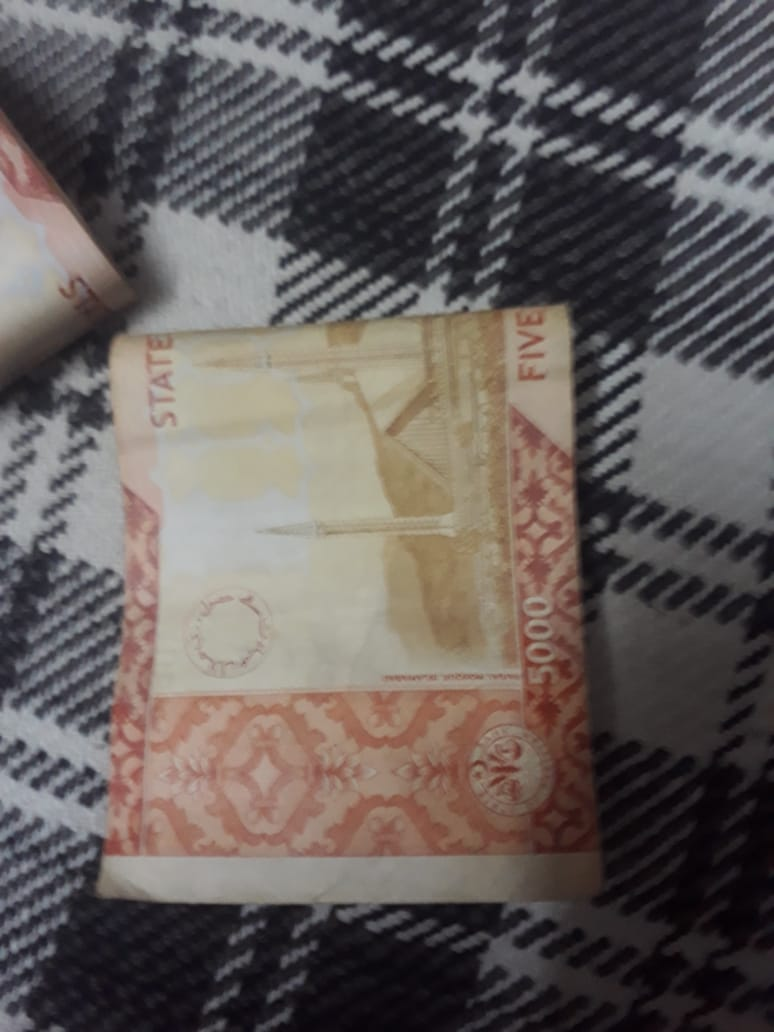5000 rupee: (51, 294, 648, 944)
